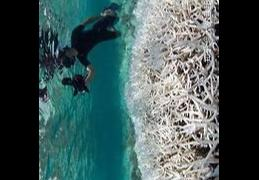bleached_corals: (128, 0, 220, 180)
